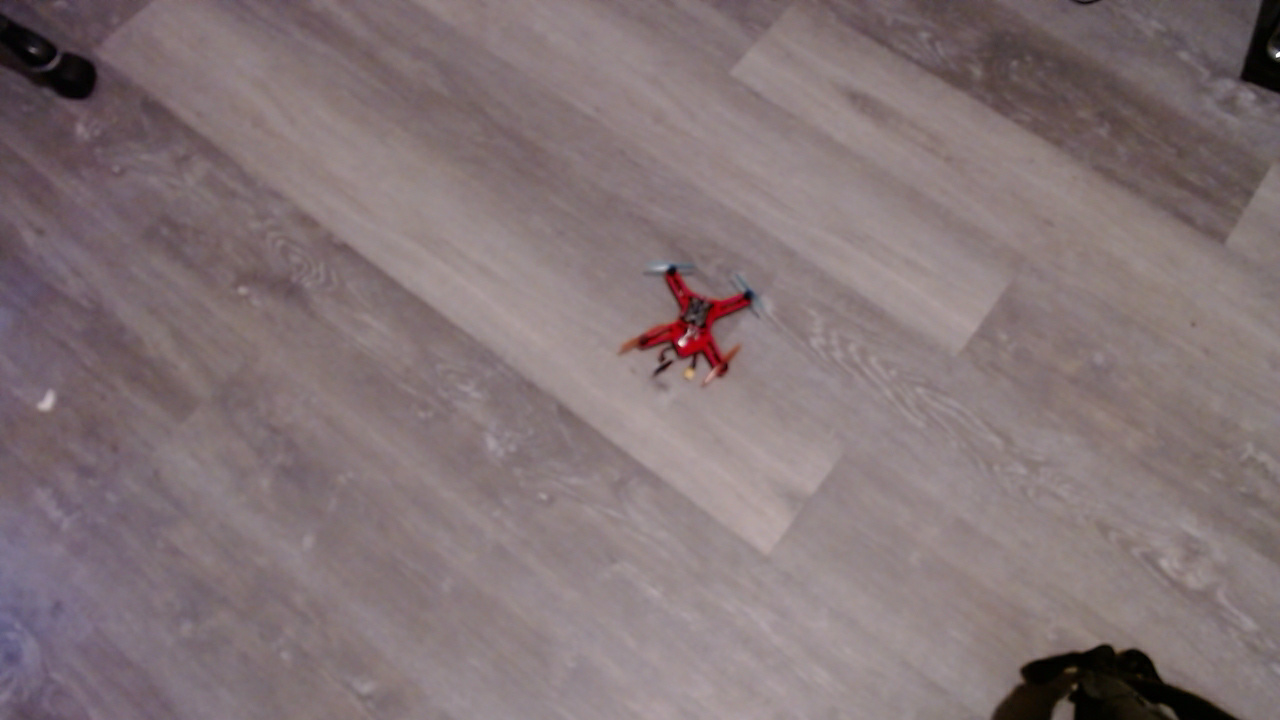crazyflie: (622, 260, 768, 408)
